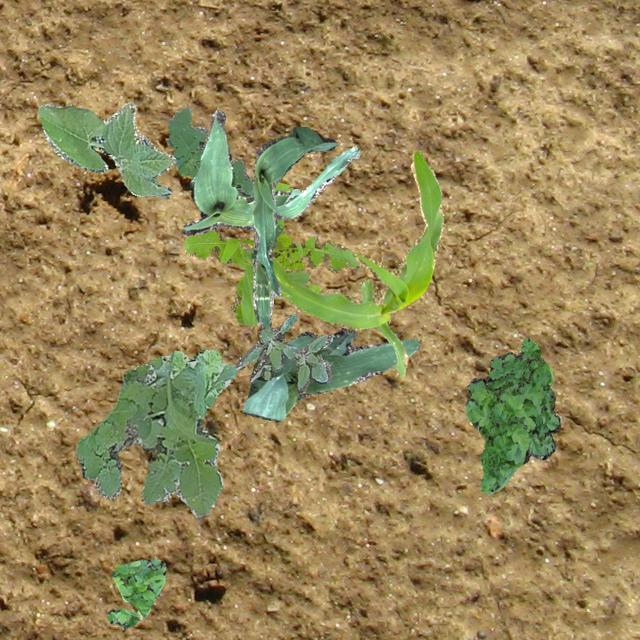crop: (238, 150, 442, 376), (182, 110, 358, 234), (250, 125, 336, 328), (242, 326, 418, 421), (36, 100, 175, 196)
weed: (75, 348, 236, 520), (182, 182, 360, 324), (464, 336, 560, 494), (166, 106, 254, 196), (235, 312, 332, 392), (106, 558, 164, 630)
